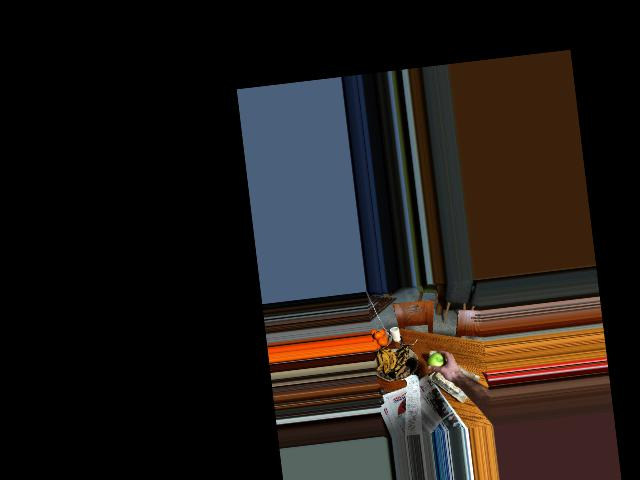apple: (424, 348, 450, 374)
